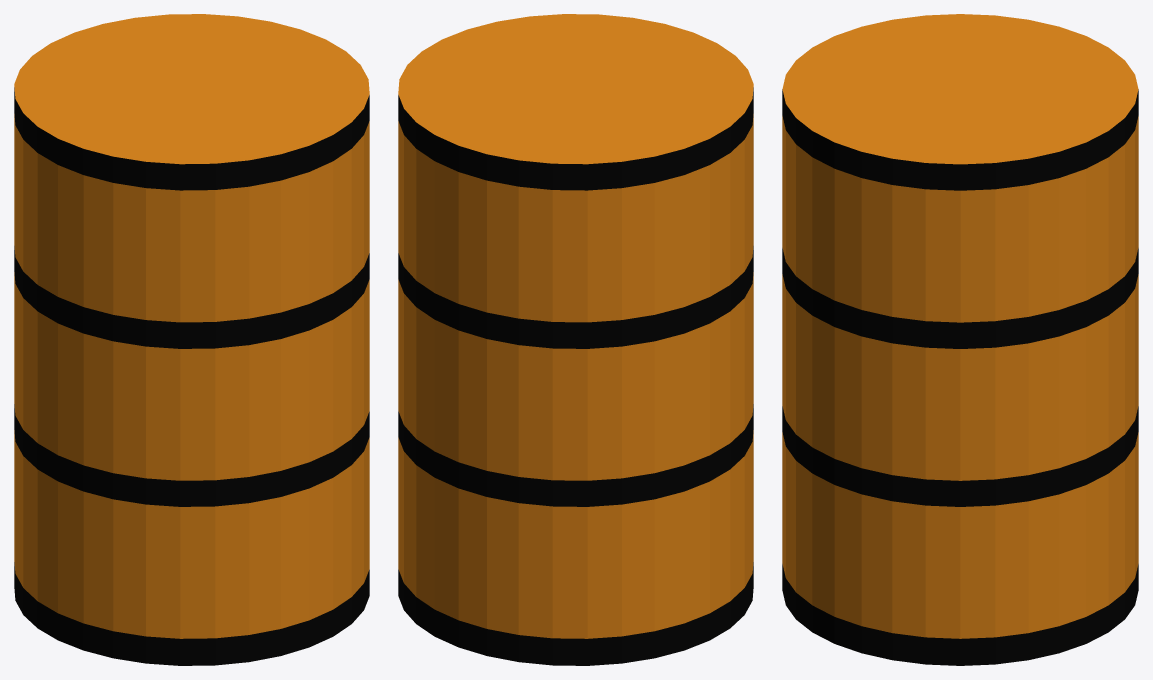
File: setup new barrel.fbx
3 renders of one model, left to right at view 1: azimuth 30°, elevation 25°; view 2: azimuth 150°, elevation 25°; view 3: azimuth 270°, elevation 25°, orthographic.
Parts seen in each view (by area): view 1: Cylinder; view 2: Cylinder; view 3: Cylinder.
Boxes of the visible parts, x1,y1,x2,y2 form: Cylinder: [14, 14, 369, 665]; Cylinder: [398, 14, 753, 665]; Cylinder: [782, 14, 1138, 665].
Bounding box in the file's own units: 150 × 233 × 150.
